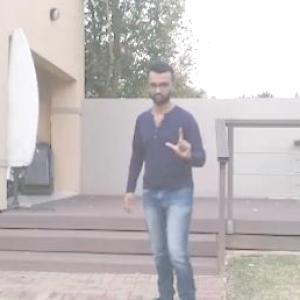land_hand: (162, 120, 198, 163)
